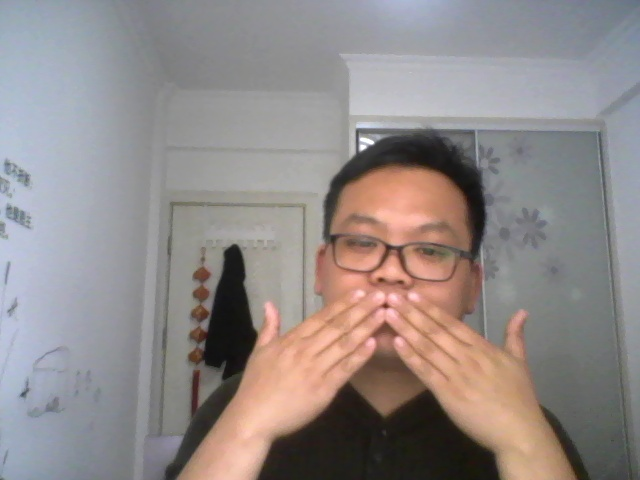Thank You: (225, 287, 552, 452)
